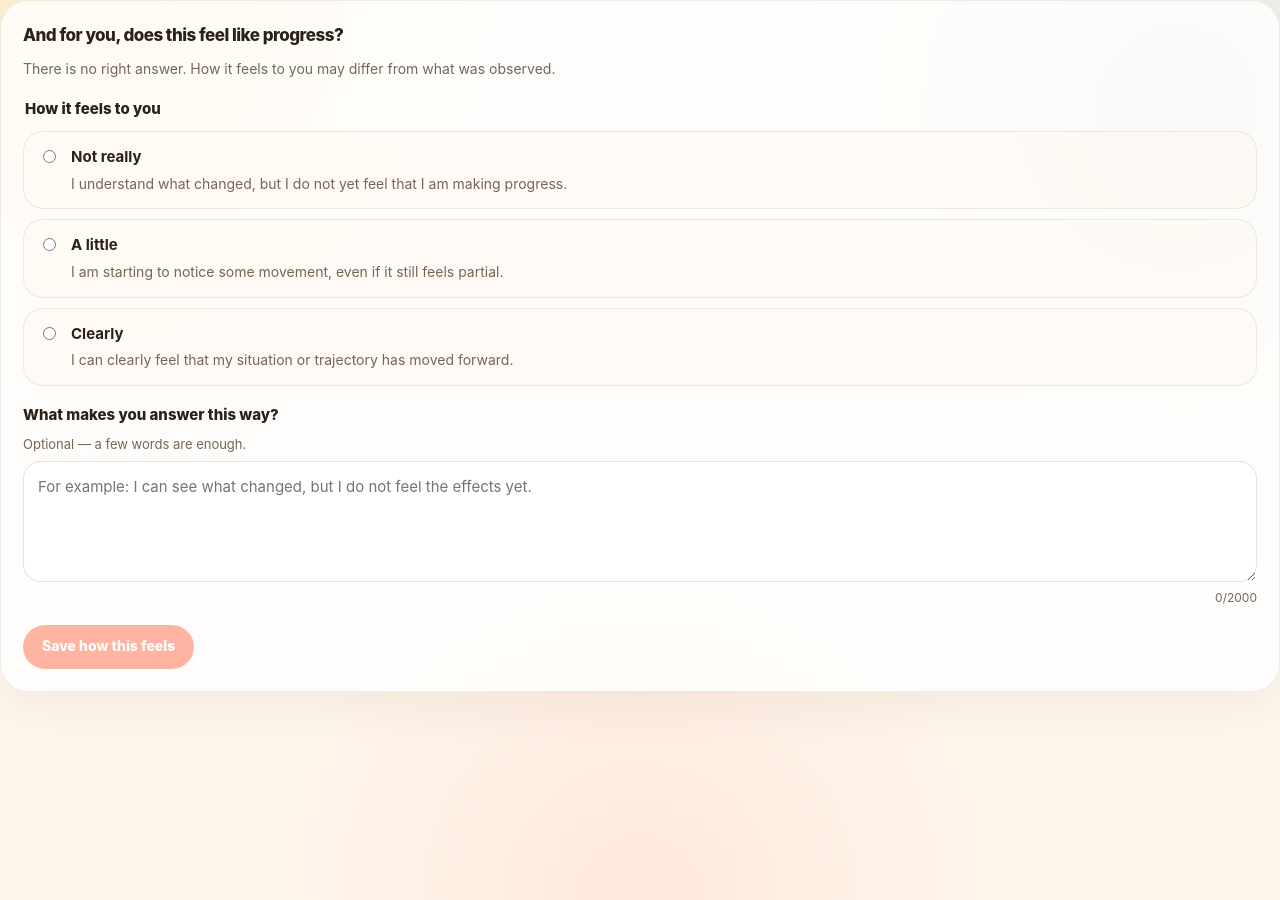
it: ProgressExperienceForm › falls back to a worker-facing error message for unknown failures
This screenshot has width=1280, height=900.
Click the radio button labelled "Clearly": (50, 333) left=43, top=327, right=56, bottom=340
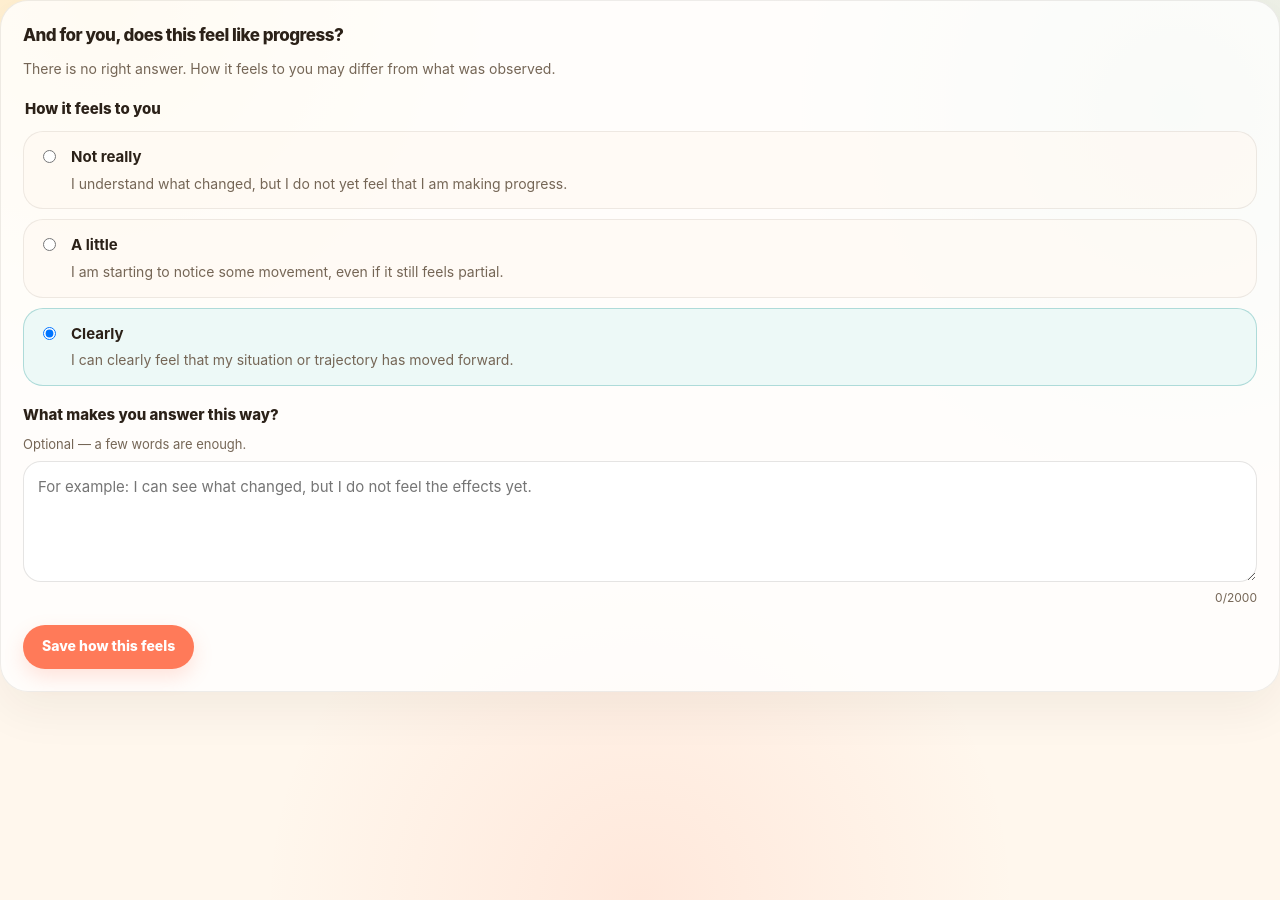
Click the button "Save how this feels": (109, 647) left=23, top=625, right=194, bottom=669
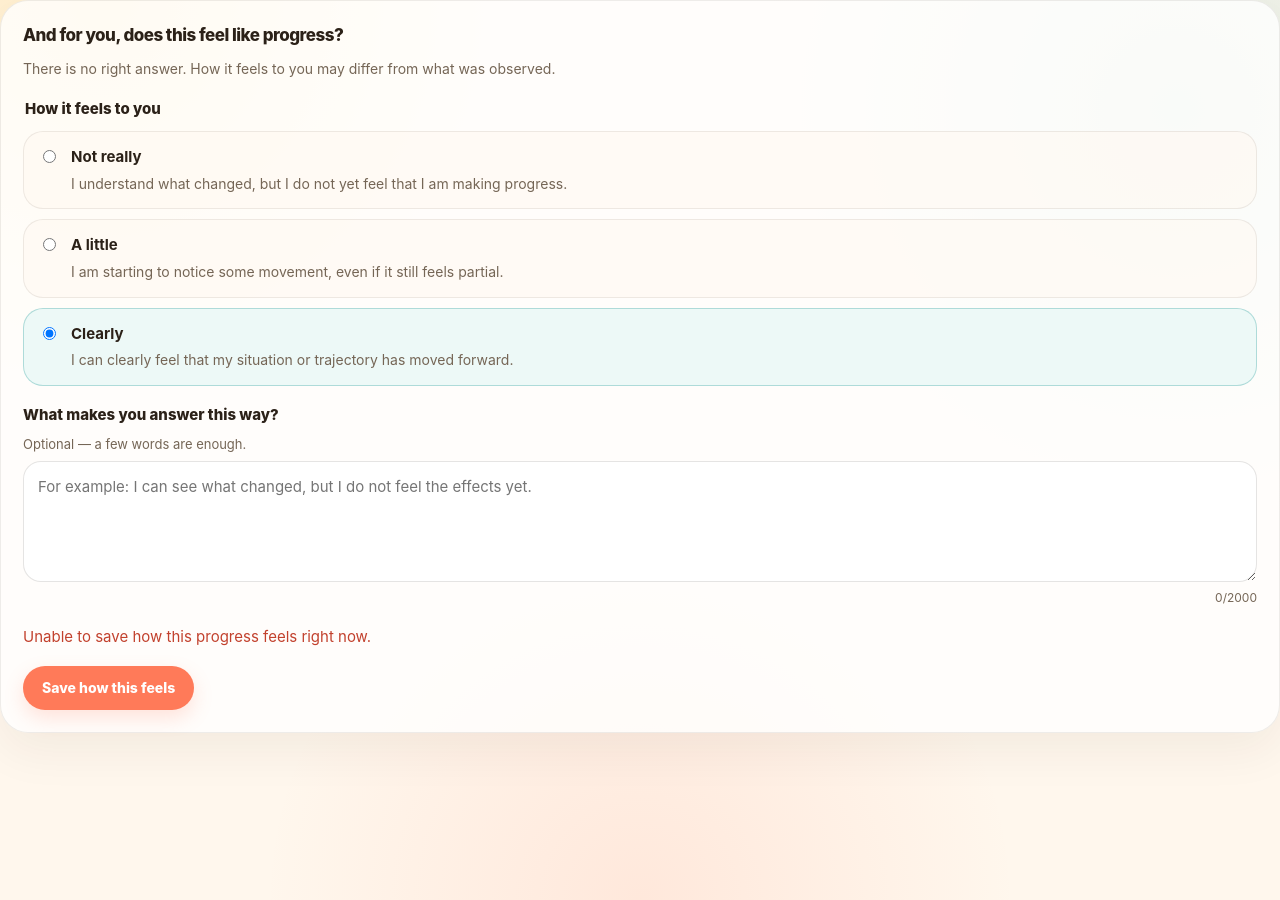
Expected: the message reads "Unable to save how this progress feels right now.", left=23, top=627, right=371, bottom=646
